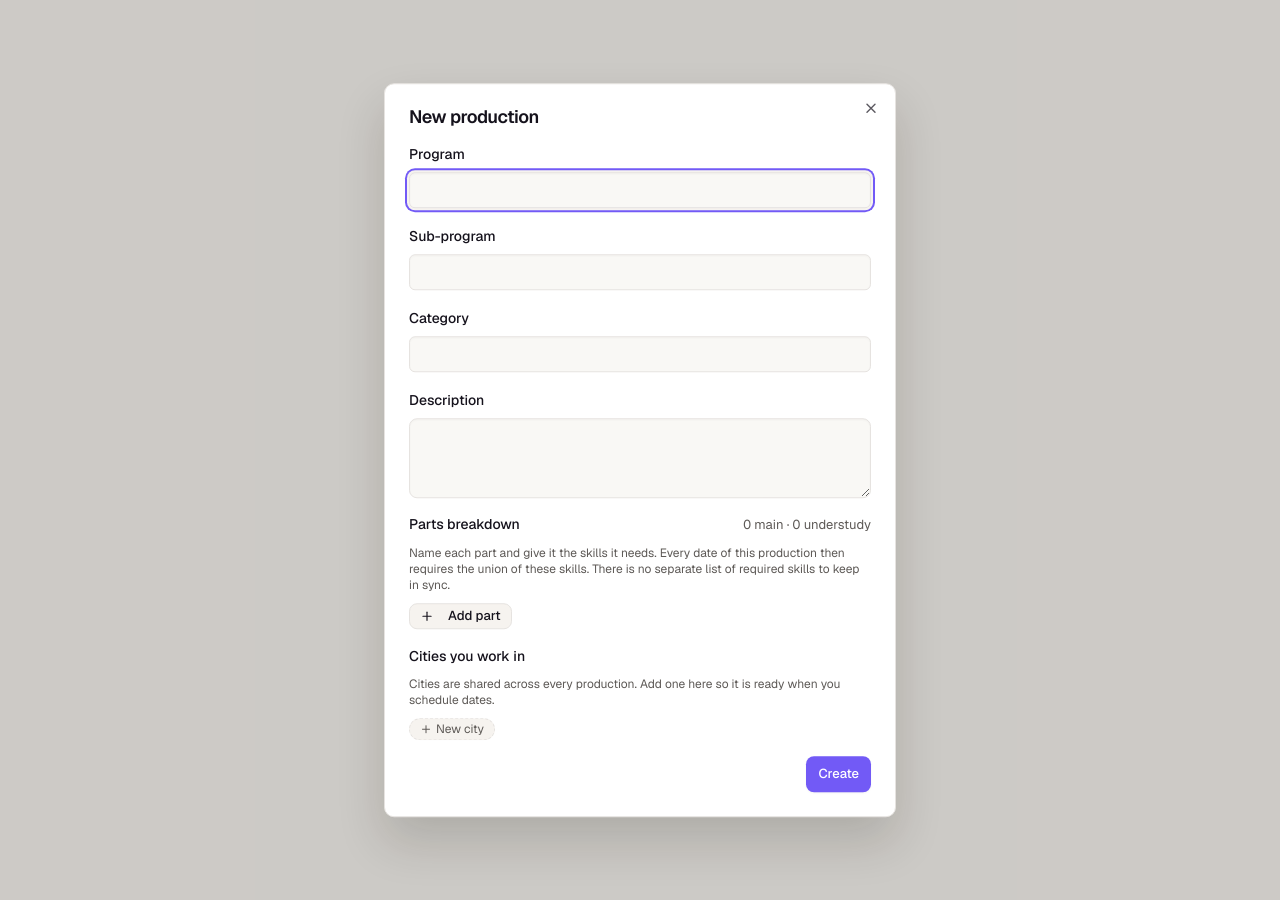
Test: ShowFormDialog › create: requires a program/sub-program label
Click the button "Create": [839, 774] box [806,756,871,792]
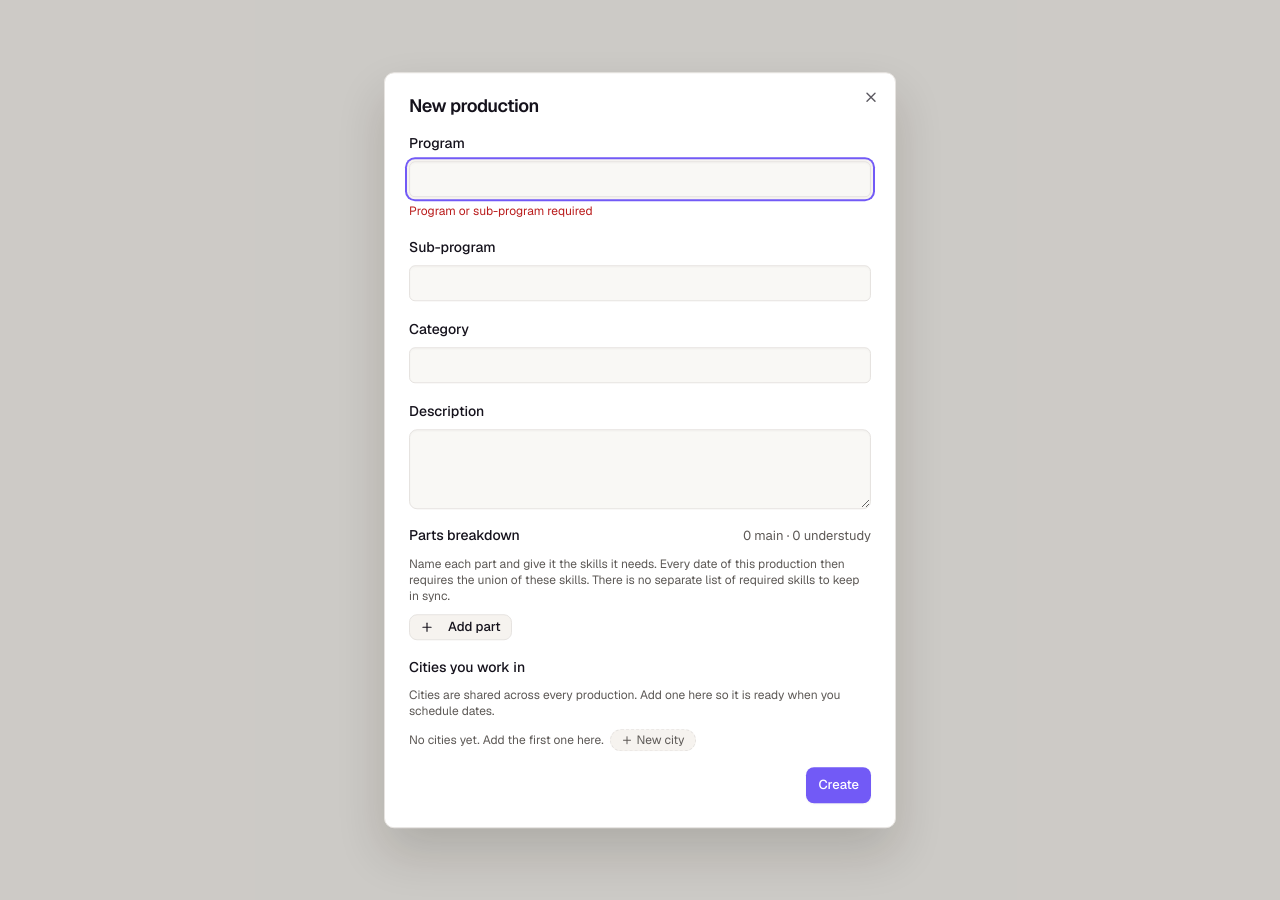
Check: the text "Program or sub-program required" is shown, box [409,203,593,219]
